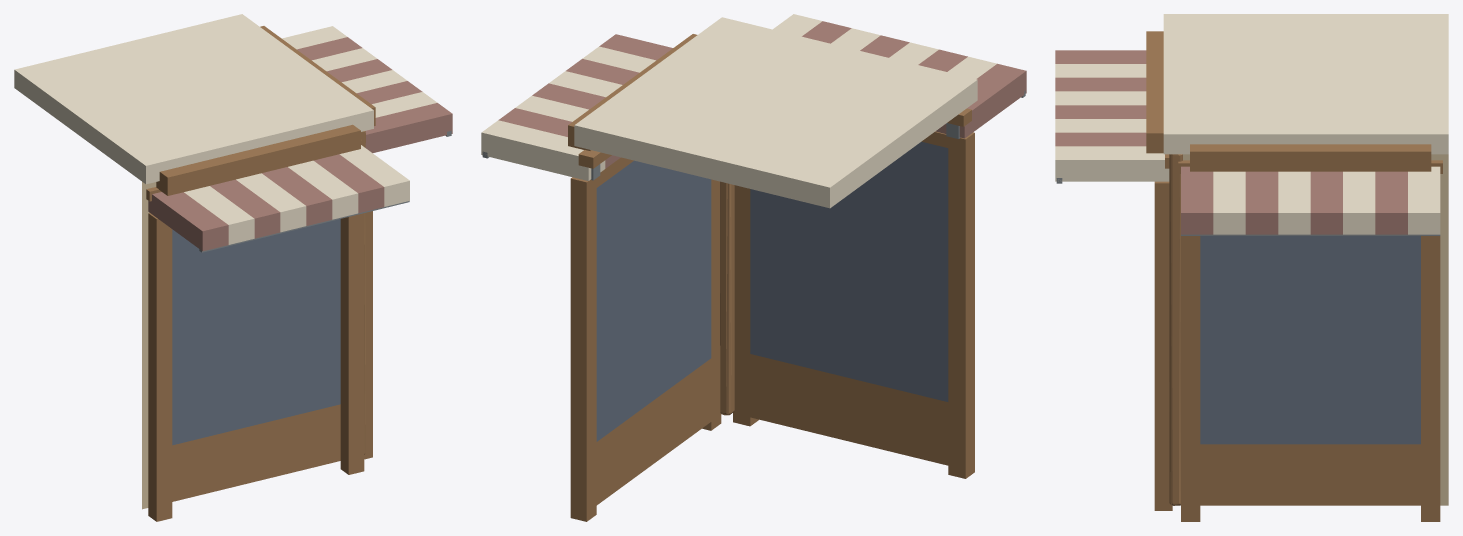
The model's file is CornerShopfront90.glb.
3 views of the same model, side by side, from view 1: azimuth 30°, elevation 25°; view 2: azimuth 150°, elevation 25°; view 3: azimuth 270°, elevation 25° (orthographic). The views are drawn at different scales.
Parts seen in each view (by area): view 1: PBK_floor_band.048, PBK_glass.001, PBK_Continuous_Frame_Indochine_Shopfront.003, PBK_glass.009_Frame_Base20.001, PBK_signboard.001, PBK_awning_stripe.009, PBK_awning_stripe.001, PBK_Indochine_CornerShopfront90_Exterior_Surface.001, PBK_Continuous_Frame_Indochine_Shopfront.004, PBK_awning_stripe.004, PBK_awning_stripe.006, PBK_awning_stripe.002 (+13 smaller); view 2: PBK_floor_band.048, PBK_glass.001, PBK_glass.003, PBK_Continuous_Frame_Indochine_Shopfront.003, PBK_glass.009_Frame_Base20.001, PBK_Continuous_Frame_Indochine_Shopfront.004, PBK_glass.009_Frame_Base20.002, PBK_awning_stripe.016, PBK_ShopCornerPost90.021, PBK_awning_stripe.001, PBK_awning_stripe.015, PBK_awning_stripe.010 (+13 smaller); view 3: PBK_glass.003, PBK_floor_band.048, PBK_glass.009_Frame_Base20.002, PBK_Continuous_Frame_Indochine_Shopfront.004, PBK_signboard.002, PBK_Continuous_Frame_Indochine_Shopfront.003, PBK_ShopCornerPost90.021, PBK_awning_stripe.008, PBK_Indochine_CornerShopfront90_Exterior_Surface.001, PBK_signboard.001, PBK_awning_stripe.011, PBK_awning_stripe.016 (+14 smaller).
Part boxes in pixels (x1,y1,x2,y2): PBK_floor_band.048: [14, 14, 373, 184]; PBK_glass.001: [172, 219, 340, 445]; PBK_Continuous_Frame_Indochine_Shopfront.003: [148, 213, 364, 521]; PBK_glass.009_Frame_Base20.001: [172, 404, 340, 501]; PBK_signboard.001: [156, 124, 360, 195]; PBK_awning_stripe.009: [365, 103, 452, 152]; PBK_awning_stripe.001: [148, 192, 228, 251]; PBK_Indochine_CornerShopfront90_Exterior_Surface.001: [142, 182, 156, 509]; PBK_Continuous_Frame_Indochine_Shopfront.004: [364, 211, 372, 459]; PBK_awning_stripe.004: [236, 173, 306, 232]; PBK_awning_stripe.006: [288, 160, 358, 219]; PBK_awning_stripe.002: [184, 186, 254, 244]; PBK_floor_band.048: [574, 17, 977, 208]; PBK_glass.001: [750, 141, 948, 401]; PBK_glass.003: [596, 160, 711, 441]; PBK_Continuous_Frame_Indochine_Shopfront.003: [733, 131, 974, 478]; PBK_glass.009_Frame_Base20.001: [750, 354, 948, 465]; PBK_Continuous_Frame_Indochine_Shopfront.004: [570, 157, 721, 521]; PBK_glass.009_Frame_Base20.002: [596, 358, 711, 505]; PBK_awning_stripe.016: [481, 120, 605, 180]; PBK_ShopCornerPost90.021: [720, 181, 734, 415]; PBK_awning_stripe.001: [935, 63, 1026, 138]; PBK_awning_stripe.015: [498, 108, 620, 168]; PBK_awning_stripe.010: [582, 46, 655, 72]; PBK_glass.003: [1200, 236, 1420, 444]; PBK_floor_band.048: [1163, 14, 1448, 154]; PBK_glass.009_Frame_Base20.002: [1200, 444, 1420, 505]; PBK_Continuous_Frame_Indochine_Shopfront.004: [1181, 236, 1440, 521]; PBK_signboard.002: [1190, 144, 1431, 171]; PBK_Continuous_Frame_Indochine_Shopfront.003: [1154, 181, 1172, 510]; PBK_ShopCornerPost90.021: [1169, 154, 1182, 505]; PBK_awning_stripe.008: [1055, 146, 1169, 181]; PBK_Indochine_CornerShopfront90_Exterior_Surface.001: [1180, 154, 1448, 505]; PBK_signboard.001: [1146, 31, 1163, 153]; PBK_awning_stripe.011: [1245, 171, 1278, 234]; PBK_awning_stripe.016: [1408, 166, 1440, 234].
Bounding box in the file's own units: 2.85 × 3.07 × 2.85.
